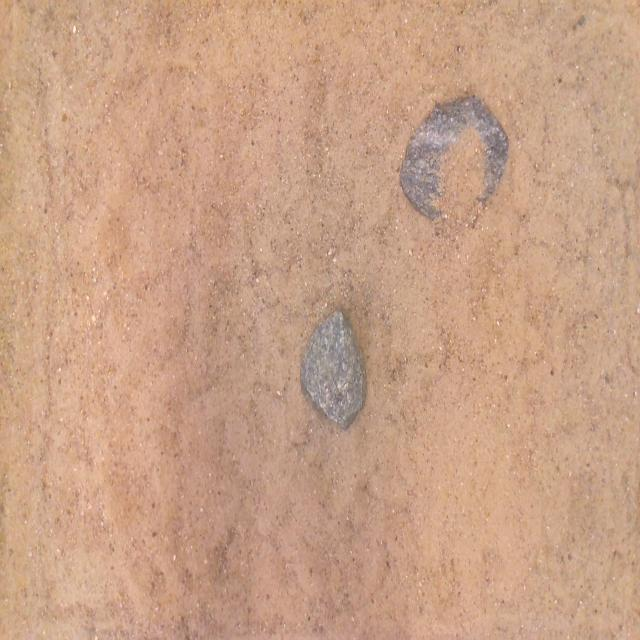rock: (400, 97, 508, 217), (301, 311, 366, 428)
